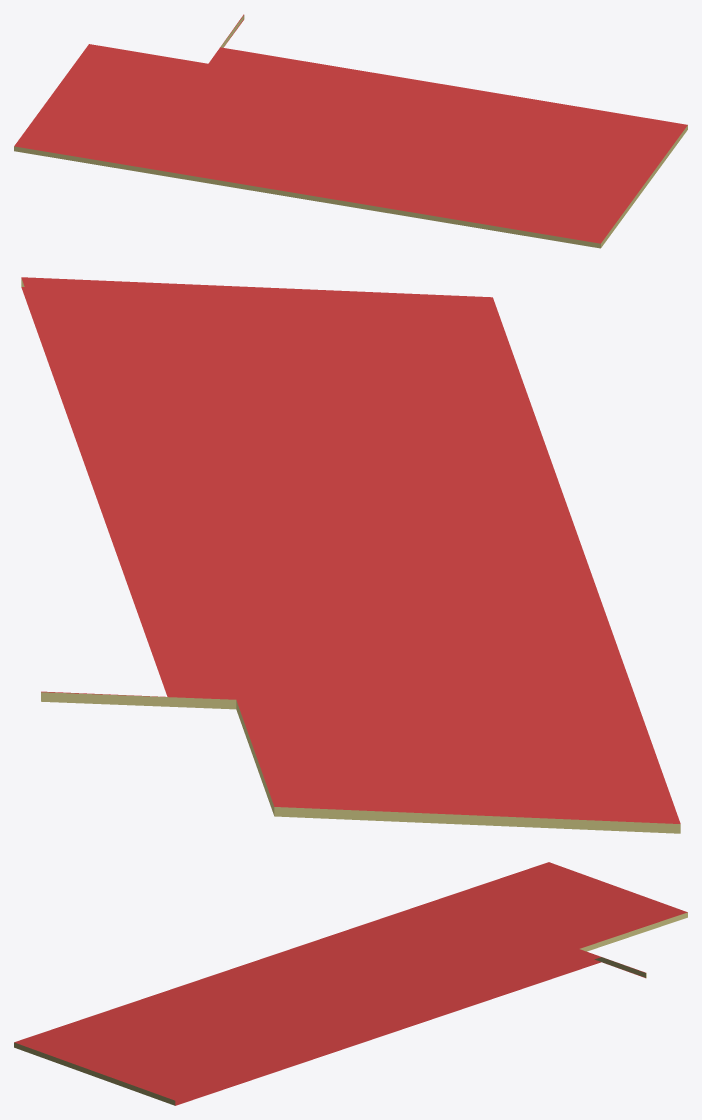
3 renders of one model, top to bottom at view 1: azimuth 30°, elevation 25°; view 2: azimuth 150°, elevation 25°; view 3: azimuth 270°, elevation 25°, orthographic. The views are drawn at different scales.
Size of the model in its own units: 10.91 by 11.69 by 0.763.
